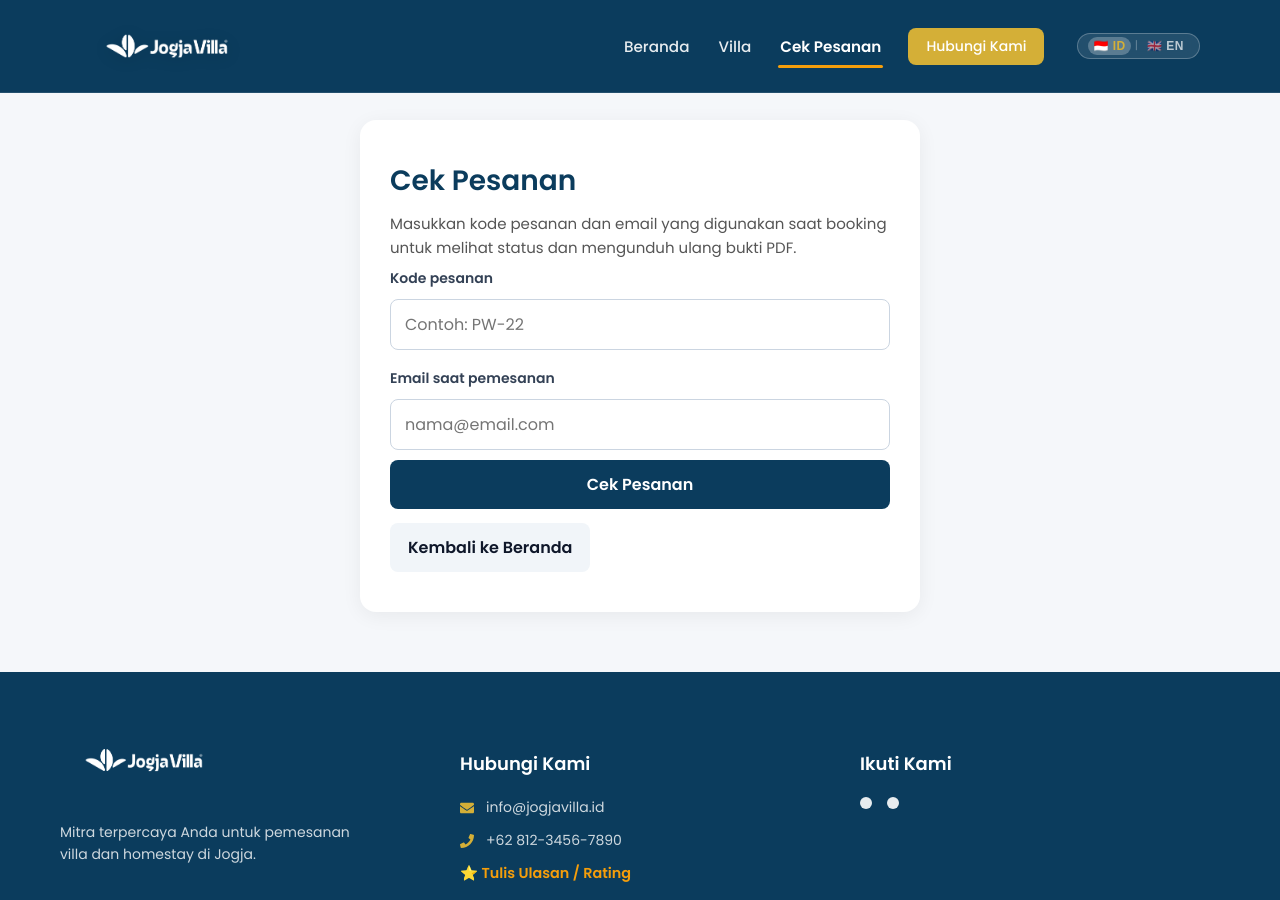
Test: looks up a booking and displays its current paid status and PDF action
Type "PW-22" into the field labelled "Kode pesanan".
click(640, 324); type("PW-22")  # box [390, 299, 890, 350]
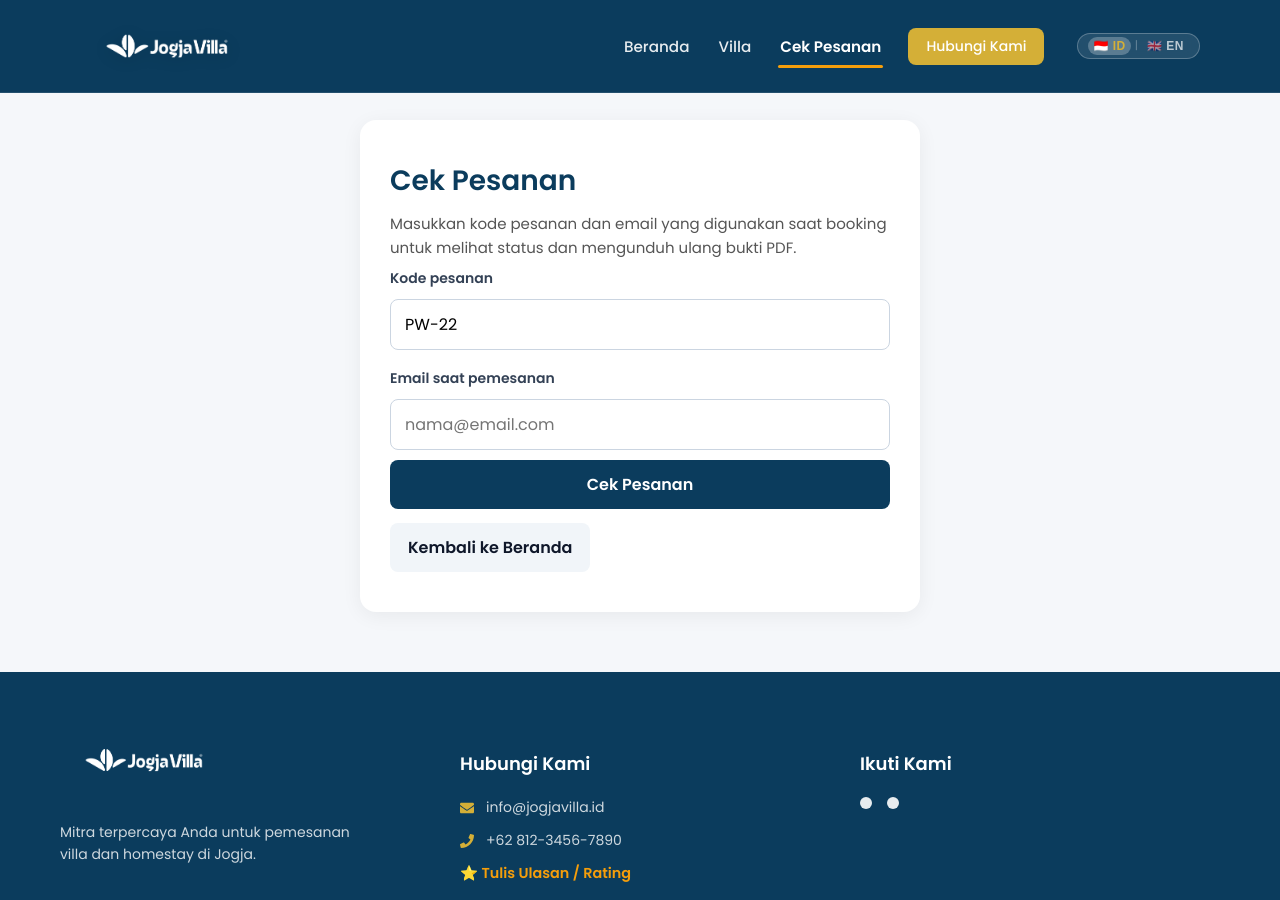
Type "customer@example.com" into the field labelled "Email saat pemesanan".
click(640, 424); type("customer@example.com")  # box [390, 399, 890, 450]
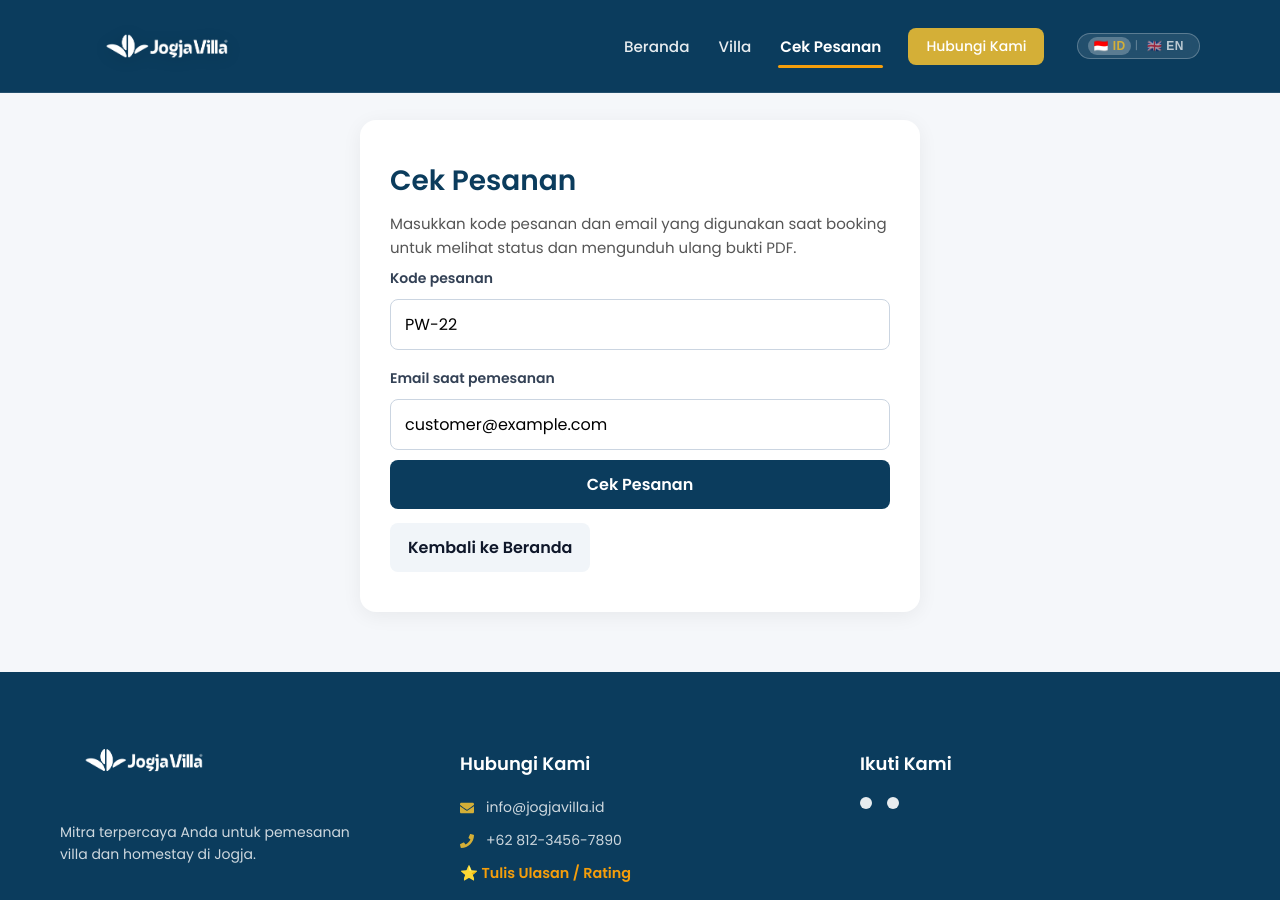
Click the button "Cek Pesanan".
click(640, 484)  # box [390, 460, 890, 509]
(page scrolled)
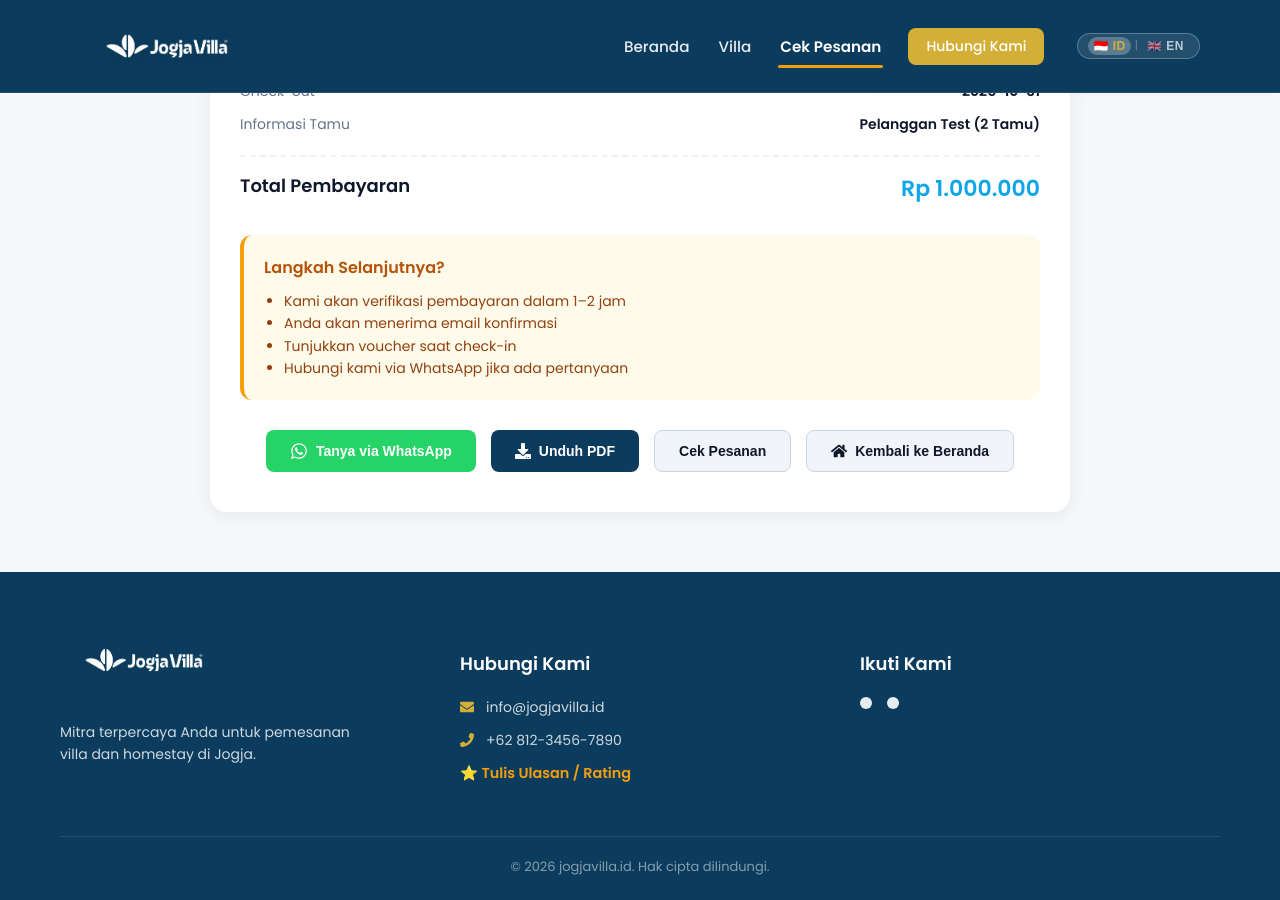
Now the button "Unduh PDF" is shown, box [491, 430, 639, 472]
